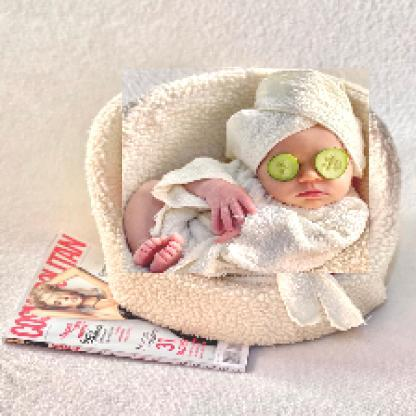child: (123, 69, 372, 275)
